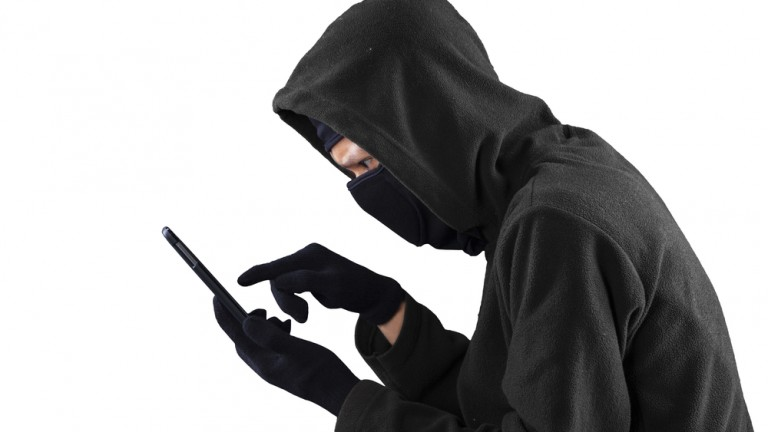unusual: (153, 3, 741, 416)
